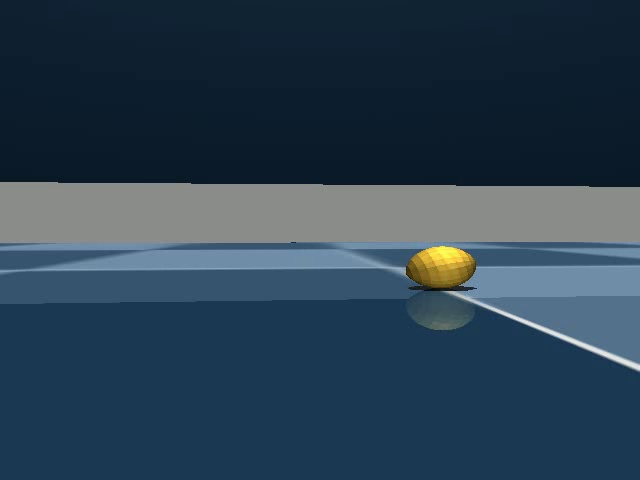lemon: (398, 239, 485, 294)
